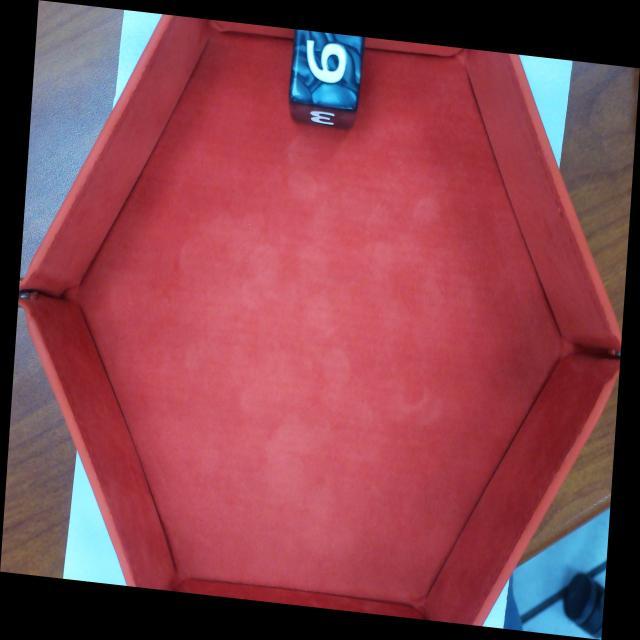dice: (291, 26, 363, 109)
